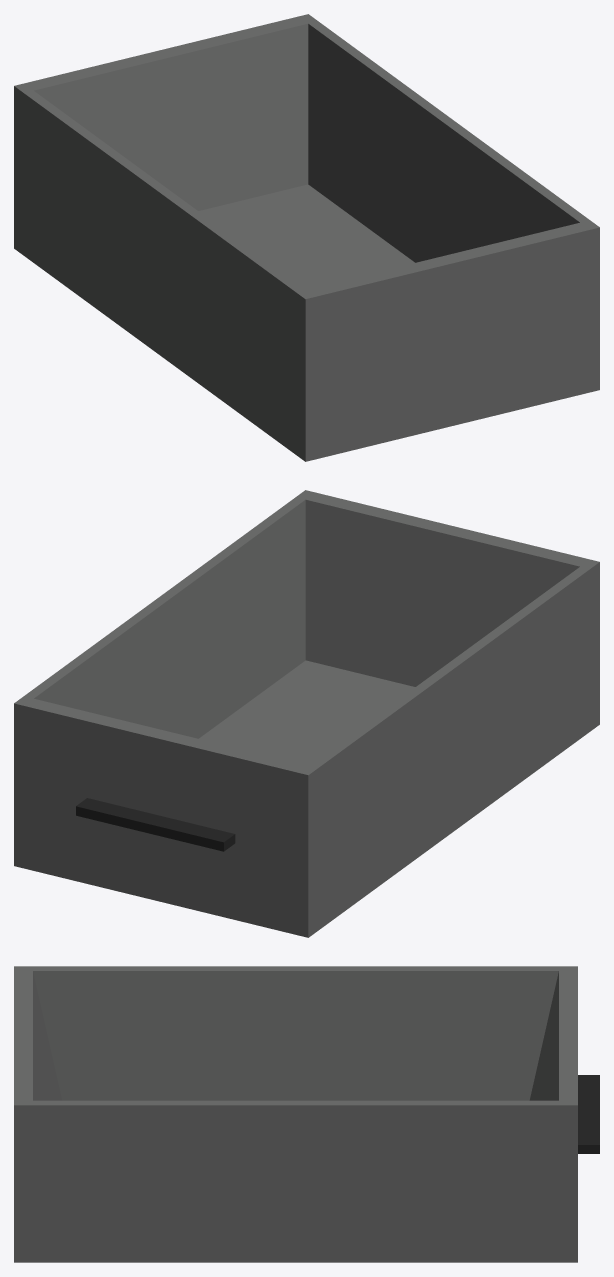
File: DrawerLeft1.obj
The picture shows the model from 3 angles, top to bottom: view 1: azimuth 30°, elevation 25°; view 2: azimuth 150°, elevation 25°; view 3: azimuth 270°, elevation 25°; orthographic projection. The views are drawn at different scales.
Parts seen in each view (by area): view 1: DrawerLeft1_Cube.007; view 2: DrawerLeft1_Cube.007; view 3: DrawerLeft1_Cube.007.
Part boxes in pixels (left/top/right/bottom): DrawerLeft1_Cube.007: left=14, top=14, right=599, bottom=461; DrawerLeft1_Cube.007: left=14, top=490, right=599, bottom=937; DrawerLeft1_Cube.007: left=14, top=966, right=599, bottom=1262.
Size of the model in its own units: 0.4047 by 0.2136 by 0.721.
Materials: 1 (1 with a texture image).
